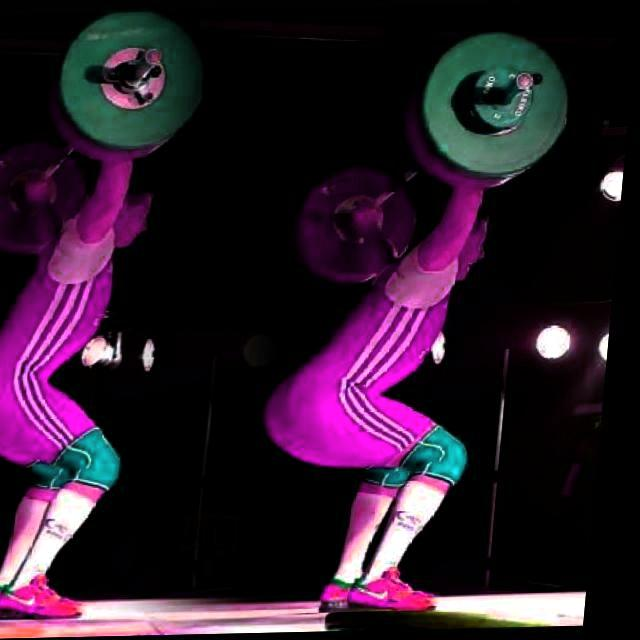barbell: (417, 27, 584, 182), (53, 8, 215, 155)
